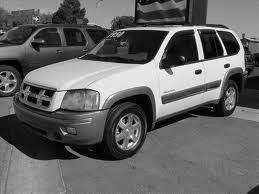car: (12, 23, 246, 159)
